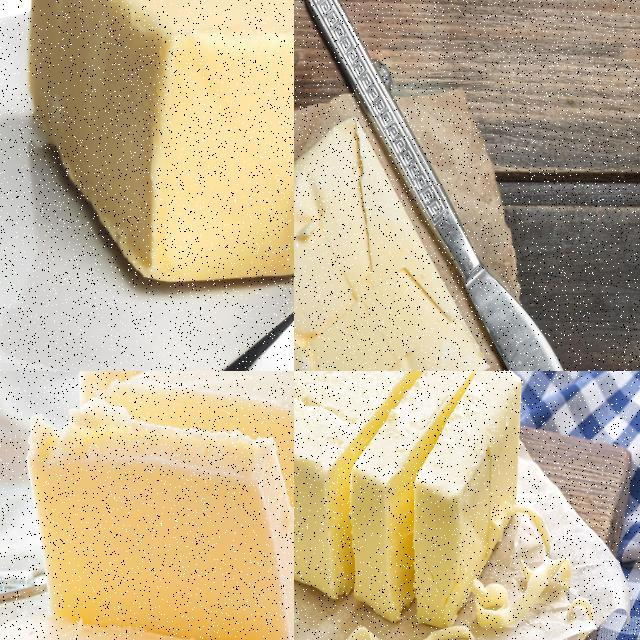Butter: (0, 371, 293, 639), (24, 0, 293, 284), (294, 371, 525, 620), (294, 114, 490, 370)
